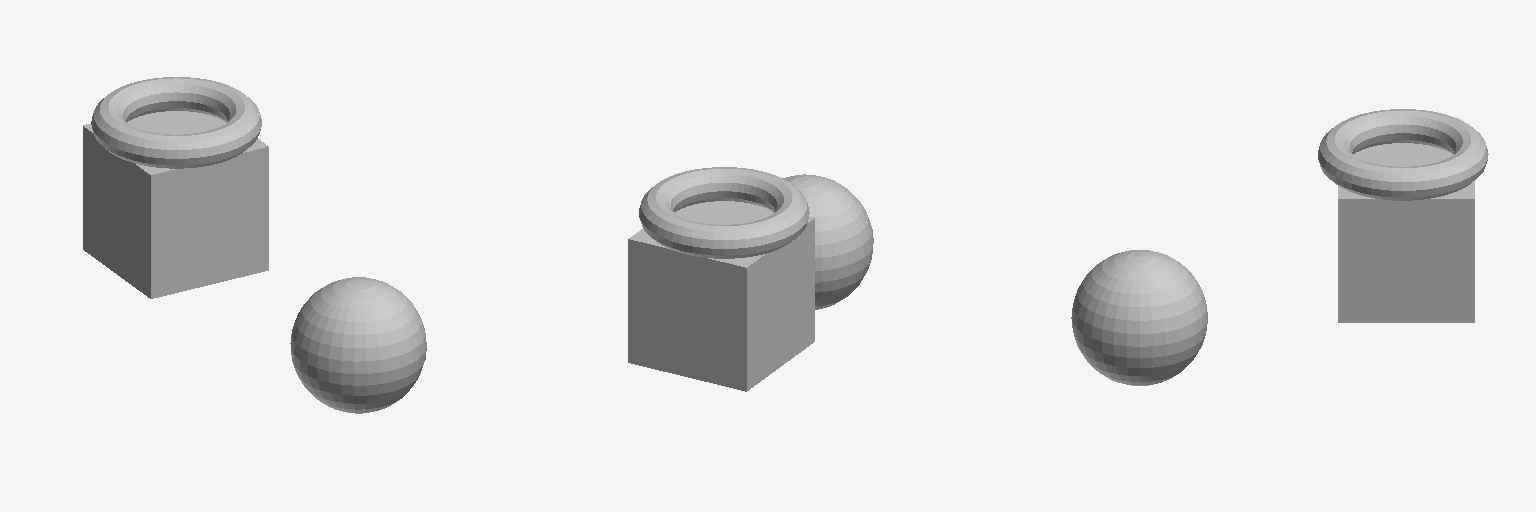
File: obstacles.mtl.obj
3 renders of one model, left to right at view 1: azimuth 30°, elevation 25°; view 2: azimuth 150°, elevation 25°; view 3: azimuth 270°, elevation 25°, orthographic.
Parts seen in each view (by area): view 1: Cube, Sphere, Torus; view 2: Cube, Torus, Sphere; view 3: Cube, Sphere, Torus.
Part boxes in pixels (x1,y1,x2,y2): Cube: (83, 111, 268, 298); Sphere: (290, 277, 426, 413); Torus: (91, 77, 261, 168); Cube: (628, 201, 814, 391); Torus: (639, 167, 809, 258); Sphere: (783, 174, 873, 309); Cube: (1338, 143, 1474, 322); Sphere: (1071, 250, 1207, 385); Torus: (1318, 109, 1488, 200).
Size of the model in its own units: 3.1 by 3.49 by 6.1.